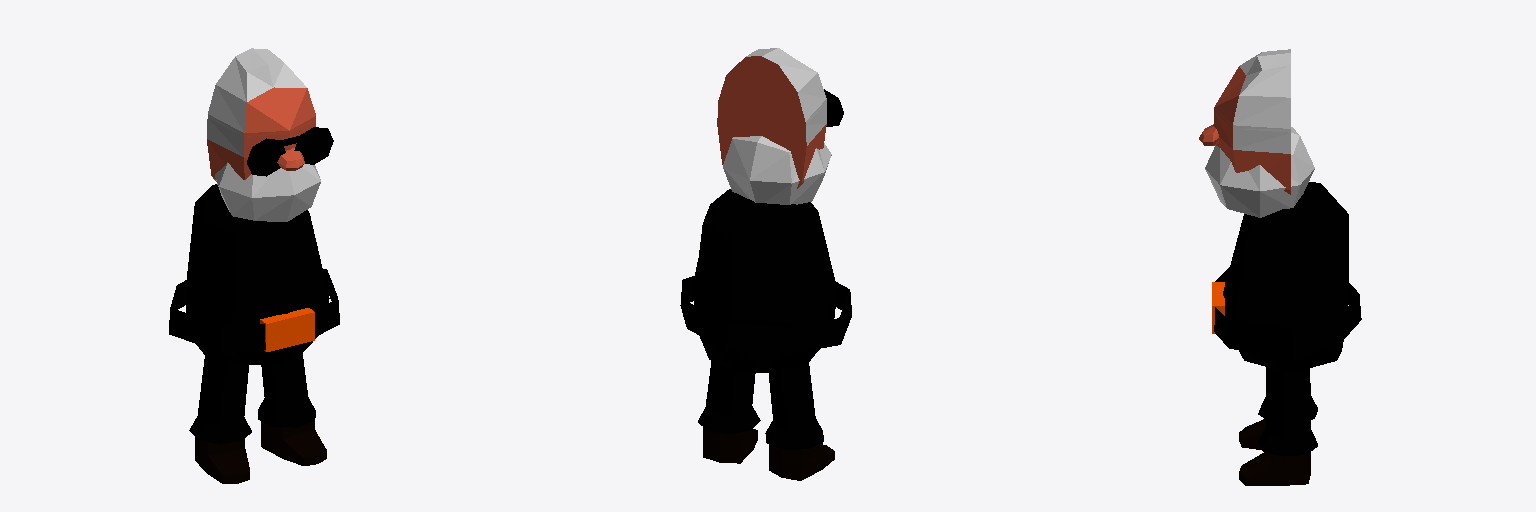
The model's file is stand.obj.
3 renders of one model, left to right at view 1: azimuth 30°, elevation 25°; view 2: azimuth 150°, elevation 25°; view 3: azimuth 270°, elevation 25°, orthographic.
Visible parts, largest first — view 1: BODY.001_BODY.003, HEAD_HEAD.004, LEG.003, BARBER.006, SHOE_SHOE.003, BELL.001_BELL.004, GLASS_GLASS.004, BELL.006; view 2: BODY.001_BODY.003, HEAD_HEAD.004, LEG.003, BELL.001_BELL.004, BARBER.006, SHOE_SHOE.003; view 3: BODY.001_BODY.003, HEAD_HEAD.004, BARBER.006, BELL.001_BELL.004, LEG.003, SHOE_SHOE.003.
Part boxes in pixels (bbox=[...]): BODY.001_BODY.003: bbox=[186, 184, 329, 364]; HEAD_HEAD.004: bbox=[207, 48, 315, 181]; LEG.003: bbox=[189, 352, 315, 444]; BARBER.006: bbox=[215, 162, 320, 221]; SHOE_SHOE.003: bbox=[195, 421, 326, 483]; BELL.001_BELL.004: bbox=[169, 269, 339, 352]; GLASS_GLASS.004: bbox=[247, 127, 333, 176]; BELL.006: bbox=[260, 308, 314, 351]; BODY.001_BODY.003: bbox=[693, 189, 836, 372]; HEAD_HEAD.004: bbox=[717, 48, 826, 188]; LEG.003: bbox=[698, 361, 823, 449]; BELL.001_BELL.004: bbox=[680, 276, 851, 353]; BARBER.006: bbox=[723, 136, 831, 204]; SHOE_SHOE.003: bbox=[703, 427, 834, 480]; BODY.001_BODY.003: bbox=[1223, 182, 1348, 373]; HEAD_HEAD.004: bbox=[1213, 49, 1290, 194]; BARBER.006: bbox=[1205, 127, 1314, 217]; BELL.001_BELL.004: bbox=[1214, 267, 1361, 358]; LEG.003: bbox=[1258, 367, 1317, 456]; SHOE_SHOE.003: bbox=[1239, 419, 1310, 485].
Size of the model in its own units: 0.5794 by 1.4 by 0.5103.